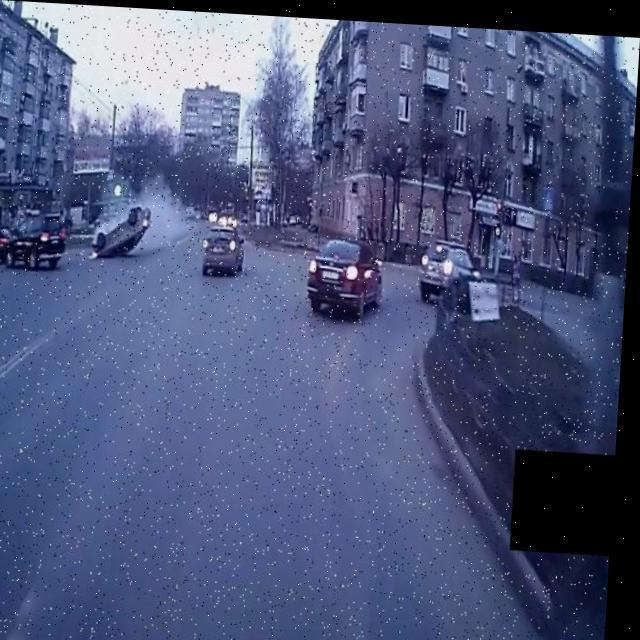normal: (290, 215, 510, 332), (197, 207, 253, 298)
single accident: (80, 177, 173, 282)
